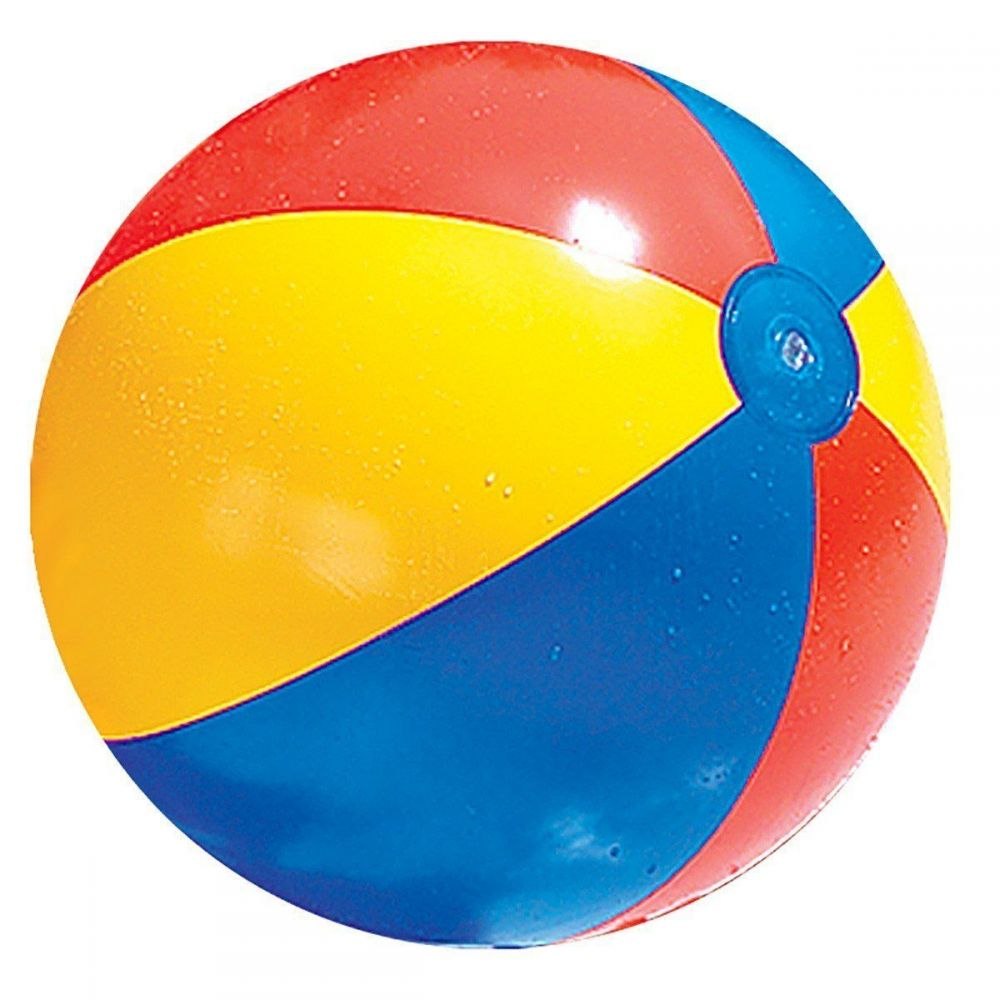sphere: (32, 41, 950, 950)
